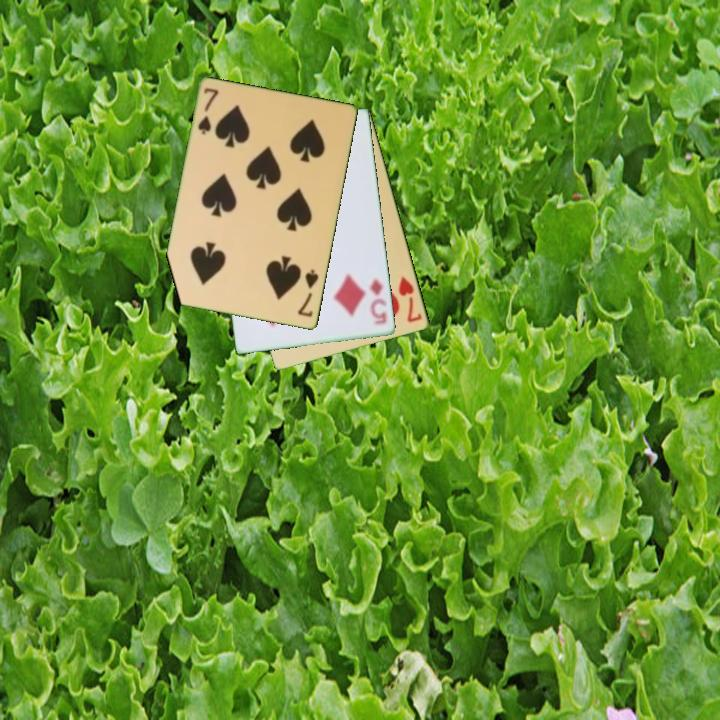5d: (366, 275, 390, 327)
7h: (395, 273, 425, 326)
7s: (295, 266, 322, 320), (195, 85, 222, 138)
